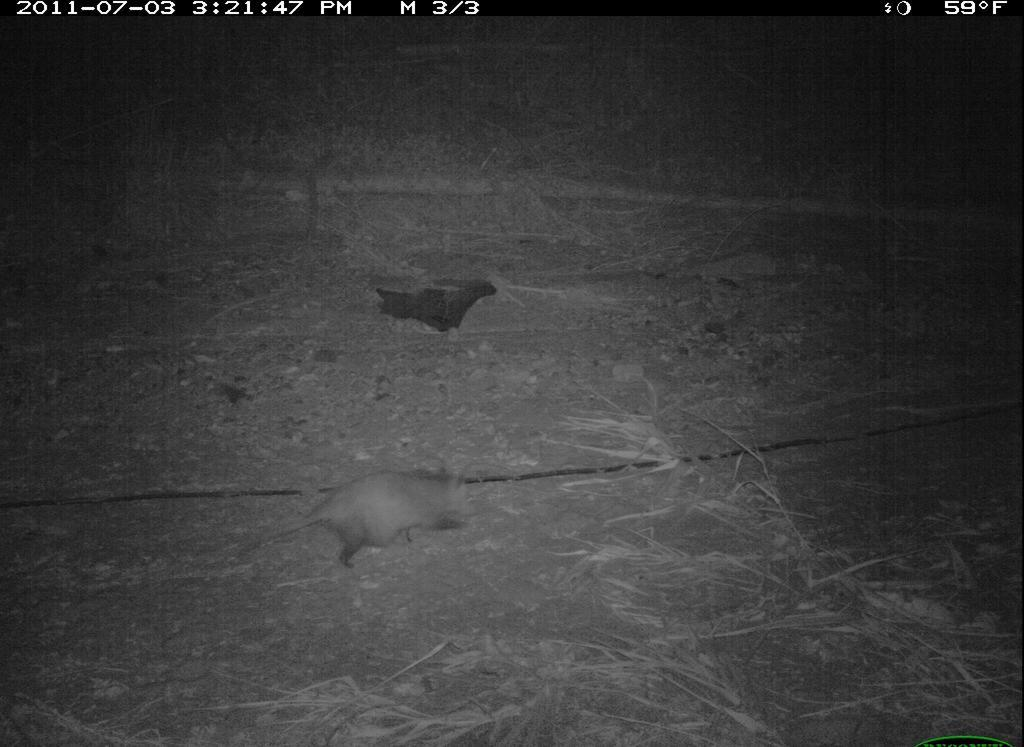opossum: (210, 457, 491, 584)
